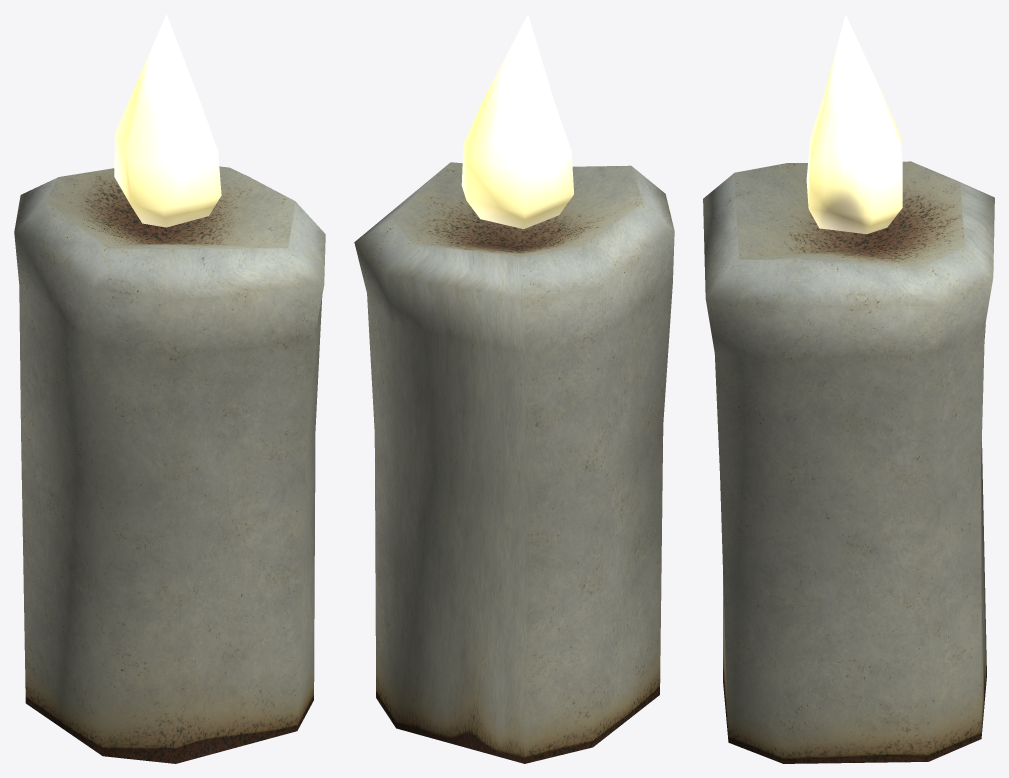
File: candle1_lowpoly.gltf
The picture shows the model from 3 angles, left to right: view 1: azimuth 30°, elevation 25°; view 2: azimuth 150°, elevation 25°; view 3: azimuth 270°, elevation 25°; orthographic projection.
Parts seen in each view (by area): view 1: candle1; view 2: candle1; view 3: candle1.
Boxes of the visible parts, bbox=[...] form: candle1: bbox=[14, 14, 325, 763]; candle1: bbox=[354, 14, 674, 763]; candle1: bbox=[703, 14, 994, 763].
Bounding box in the file's own units: 0.3103 × 0.8497 × 0.3238.
2 materials, 1 textured.
